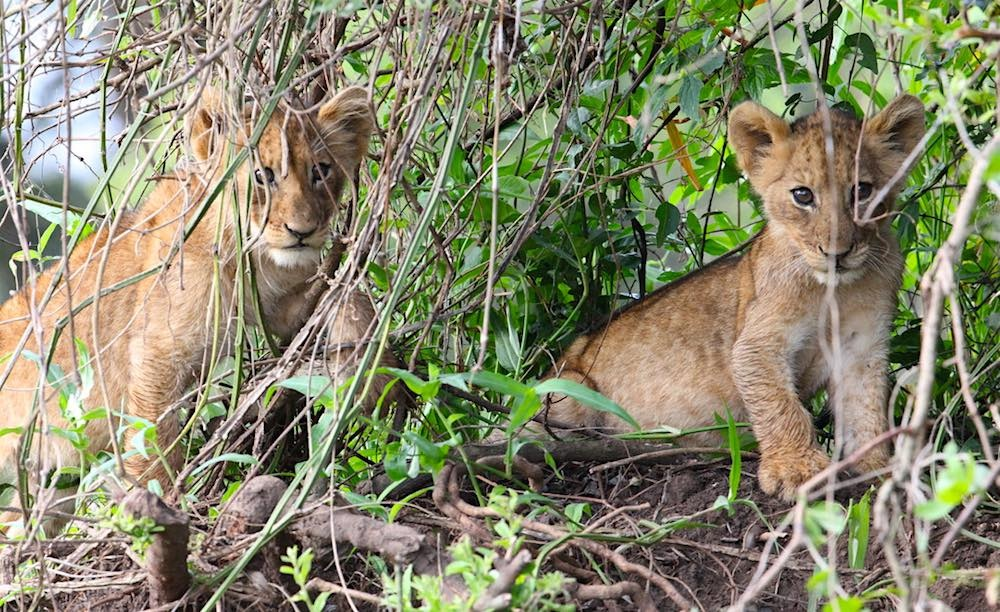lion: (482, 88, 938, 505), (1, 74, 406, 520)
